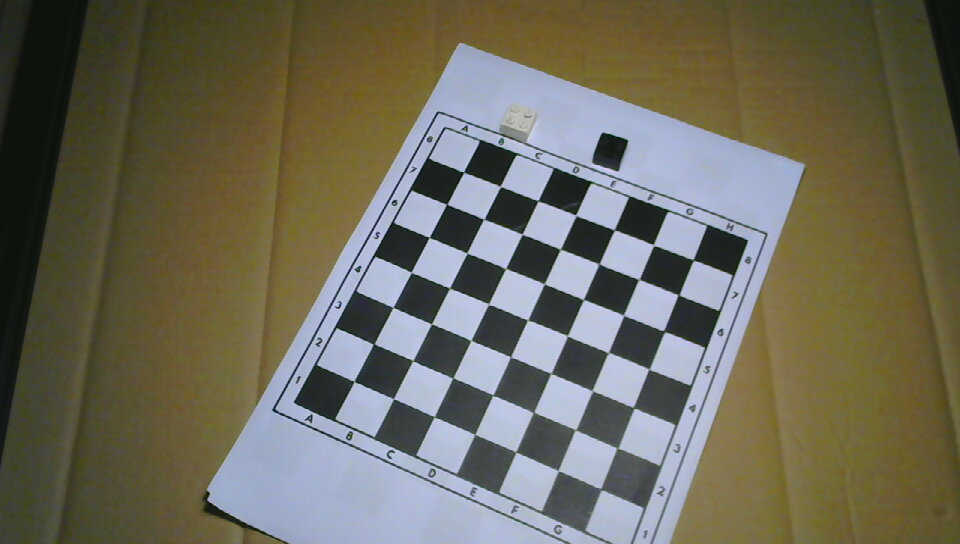bp: (592, 130, 628, 172)
wp: (500, 101, 537, 141)
